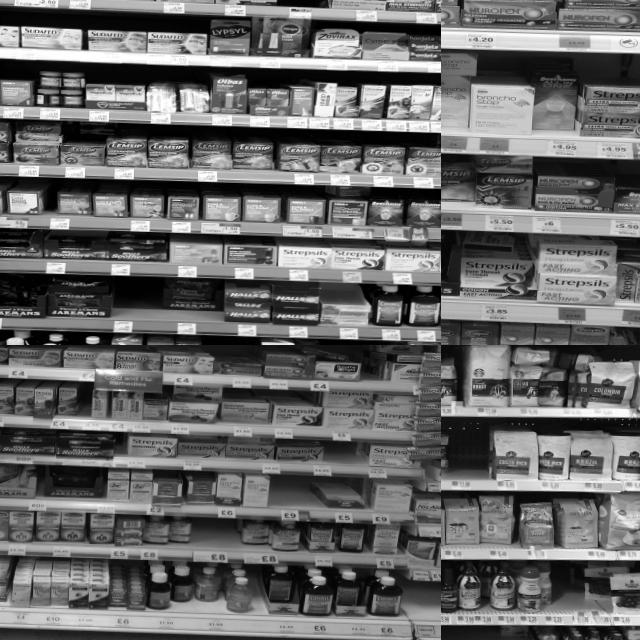100- O.O.S: (448, 422, 488, 489), (114, 277, 161, 332), (270, 475, 312, 520), (551, 561, 581, 624), (192, 518, 234, 562), (414, 583, 441, 637), (324, 441, 353, 475), (360, 345, 378, 391), (441, 626, 497, 640), (278, 0, 321, 17)
